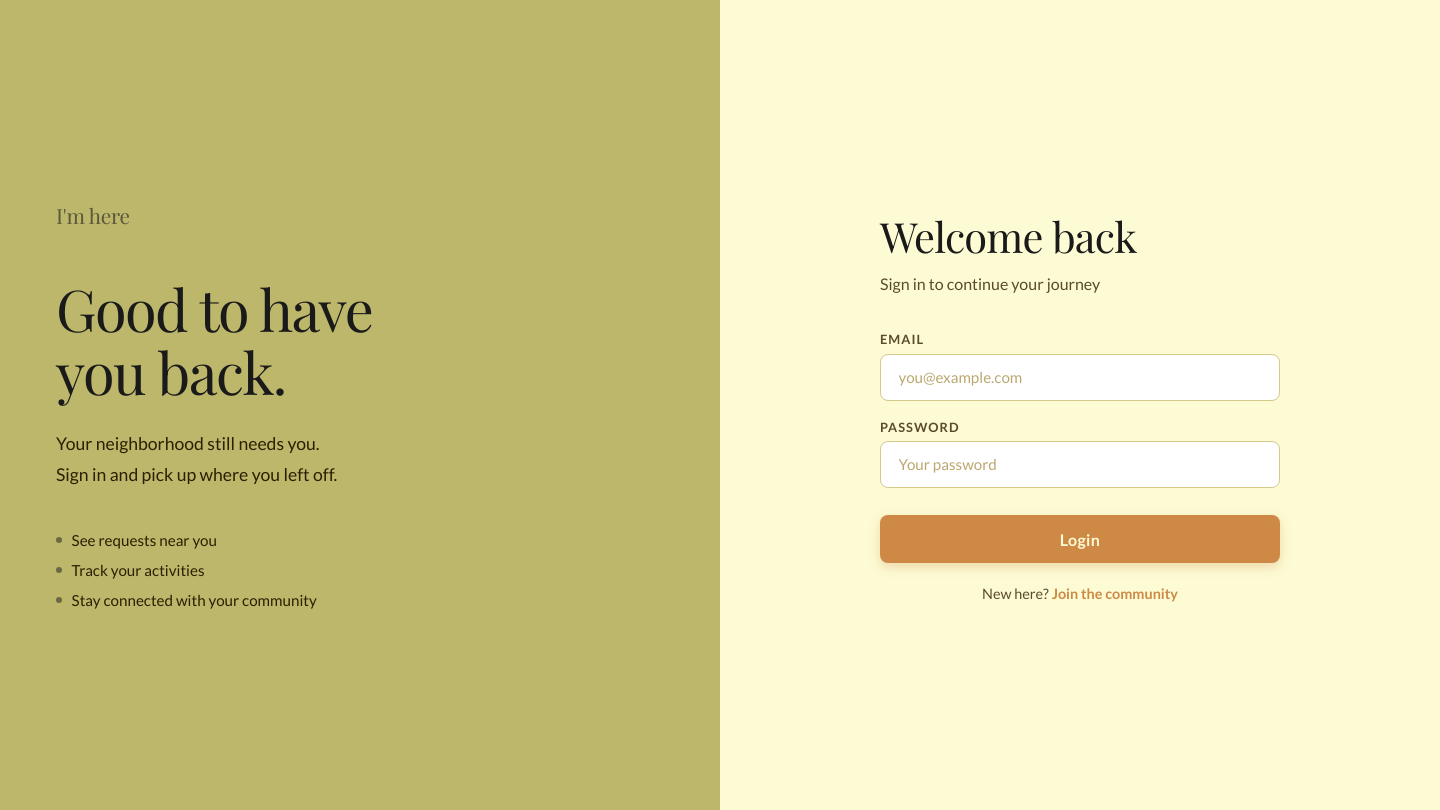
Login page › falls back to default message when the error has no .message
In the field labelled "Email": (1080, 377) [880,354,1280,401], type "x@x.com"
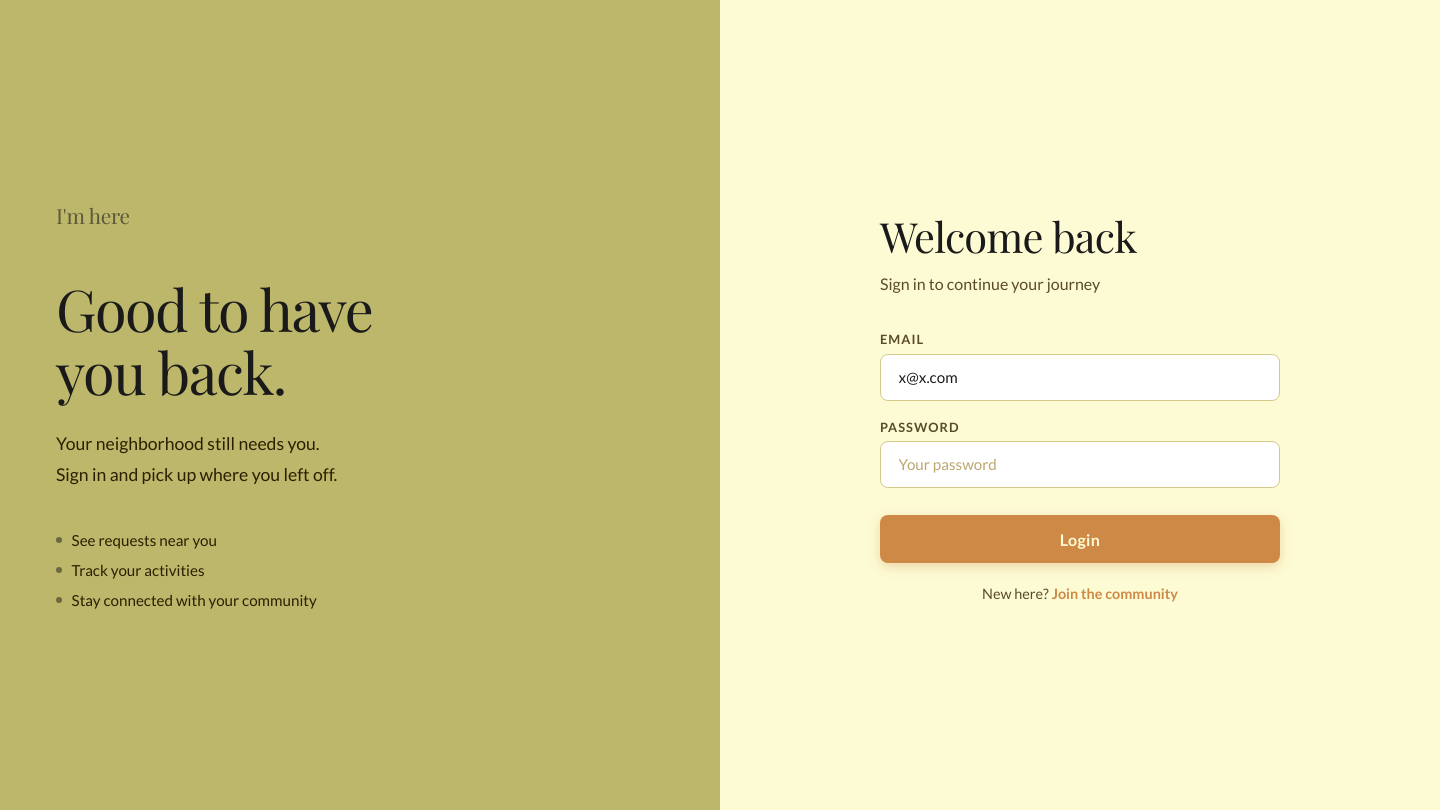
In the password field labelled "Password": (1080, 464) [880,441,1280,488], type "pass"
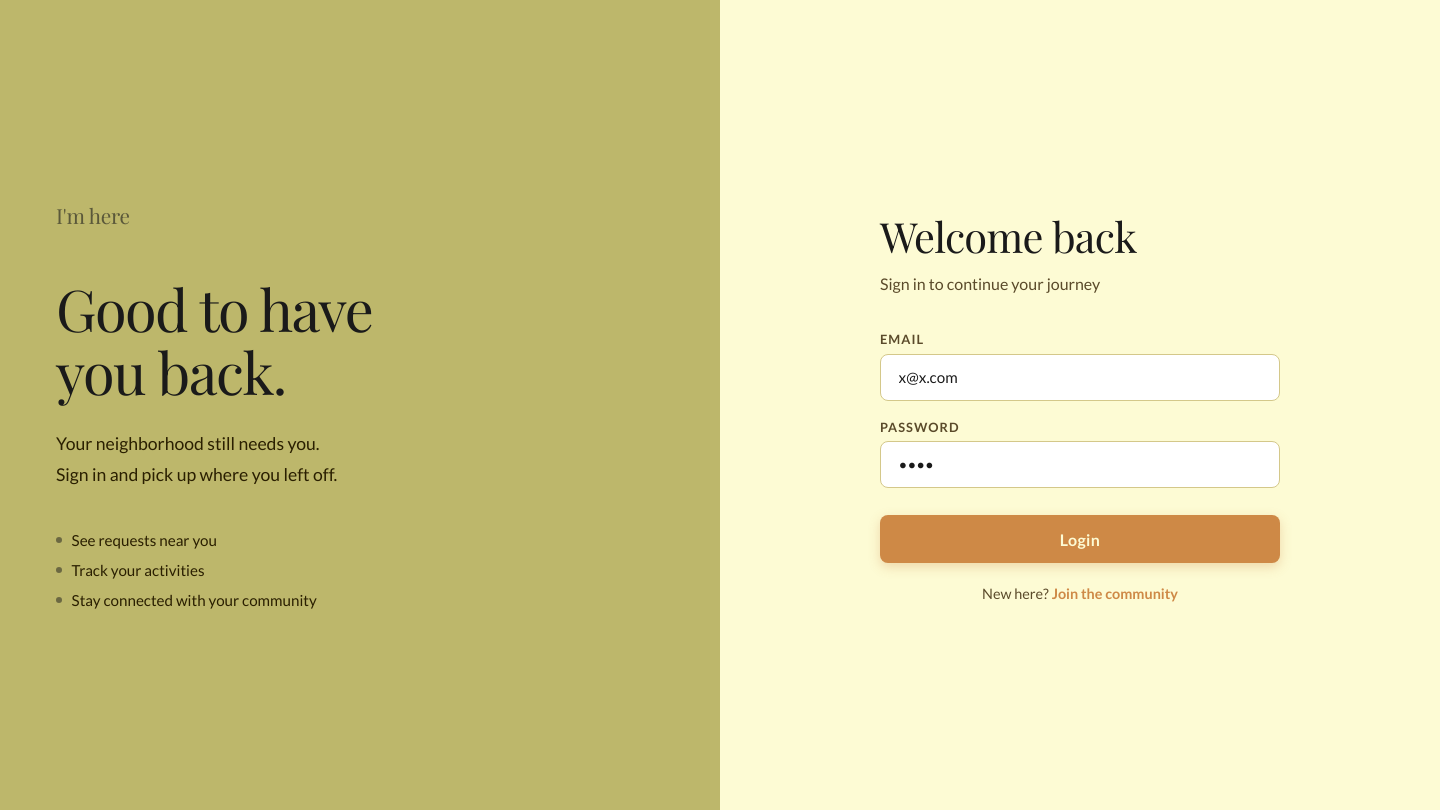
Click the button "Login": click(1080, 539) [880,515,1280,563]
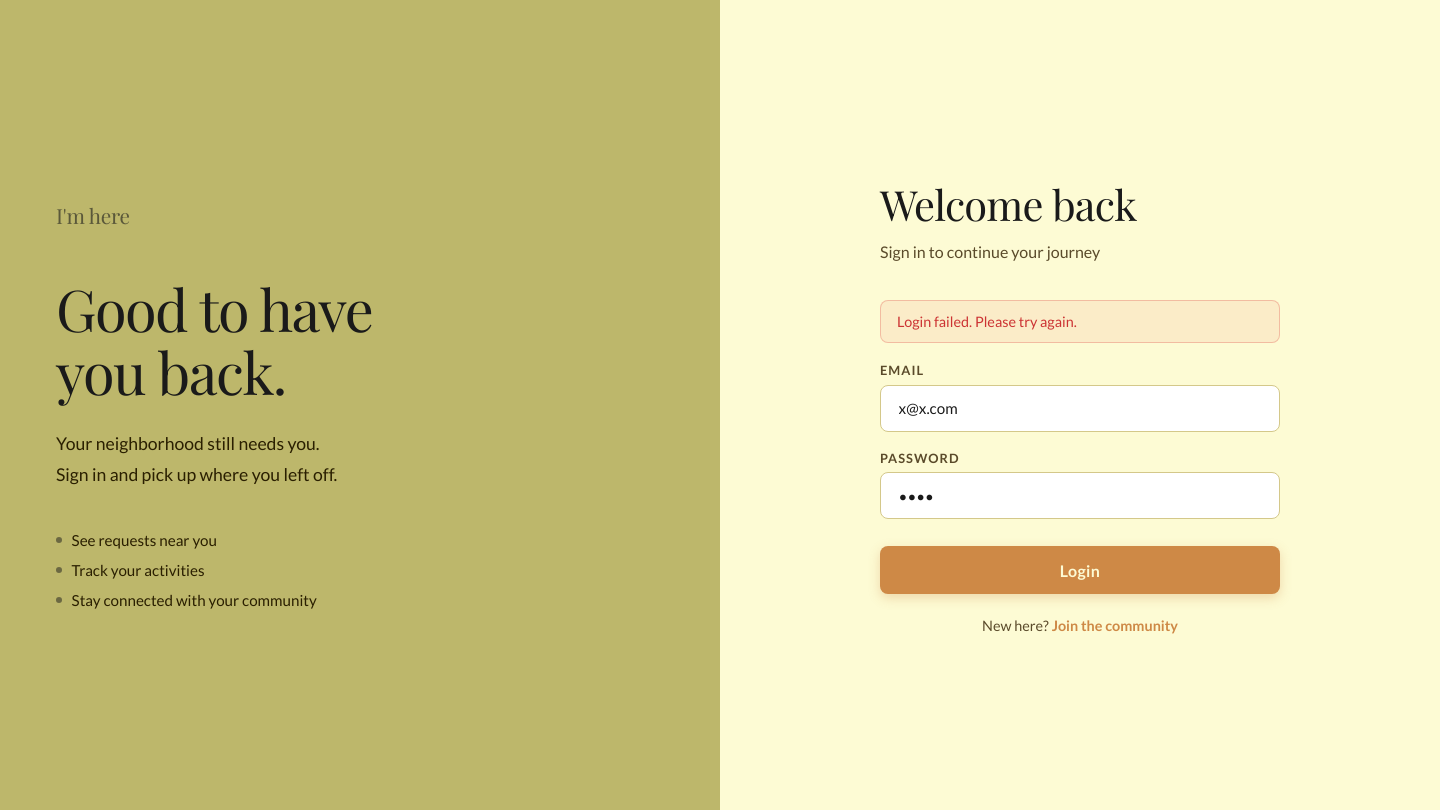
expect the text "Login failed. Please try again." is shown: met, box [880,300,1280,343]
